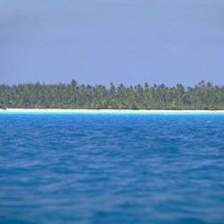neutral: (1, 58, 224, 170)
